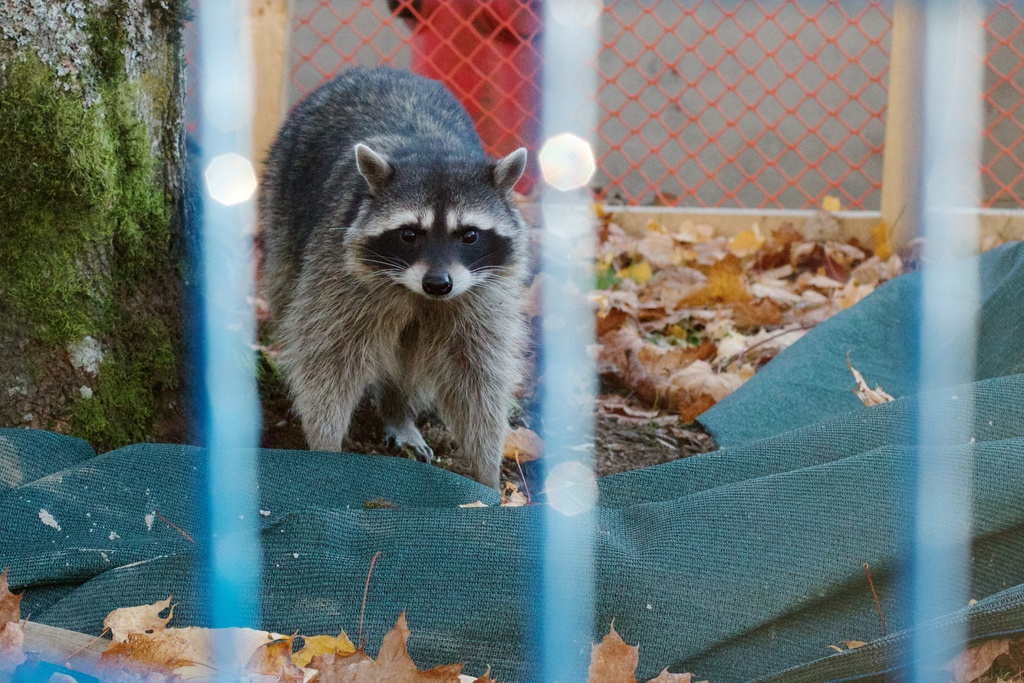raccoon: (259, 64, 537, 482)
